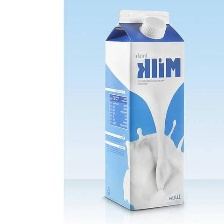carton: (102, 8, 189, 214)
